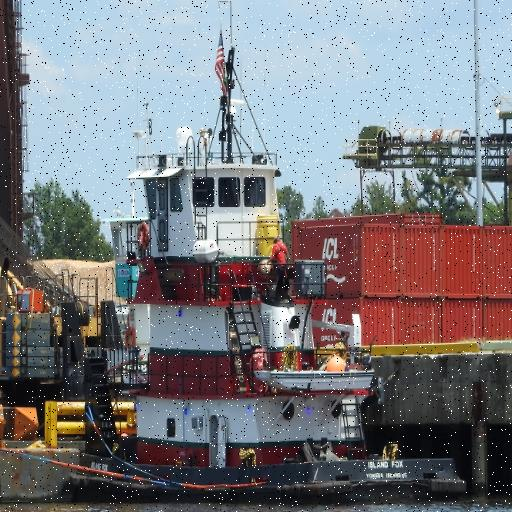tugboat: (79, 95, 472, 512)
